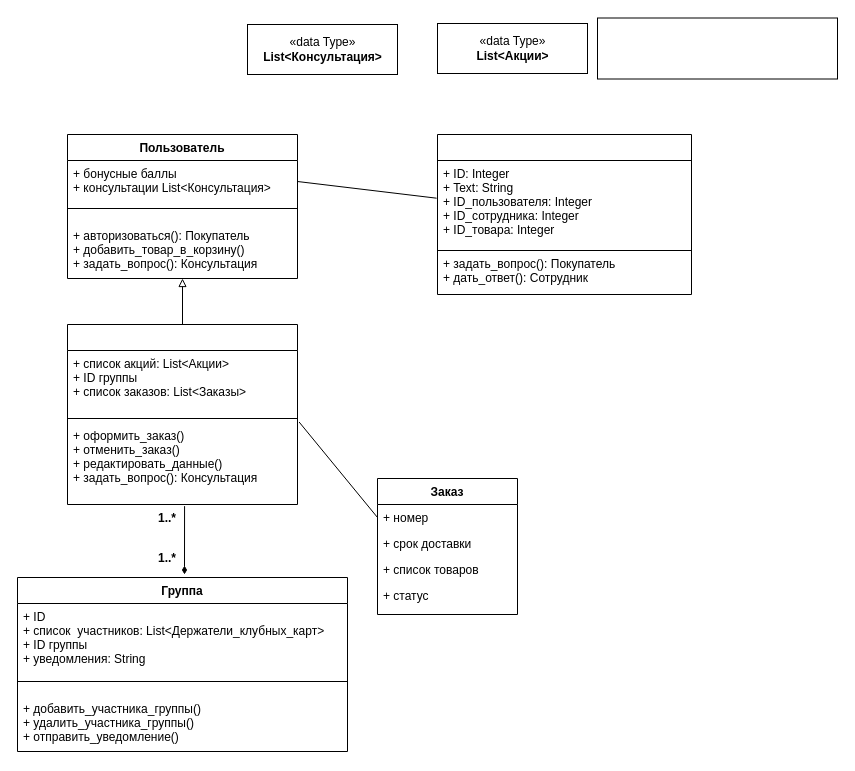
Image size: 855x771. Some labels were removed from this diagram. Here are the shapes that lost their labels. From the top down, the box of each, then its label:
(596, 17, 838, 79): «data Type» List<Держатели_клубных_карт >
(436, 134, 692, 294): Консультация
(66, 324, 298, 504): Покупатель
